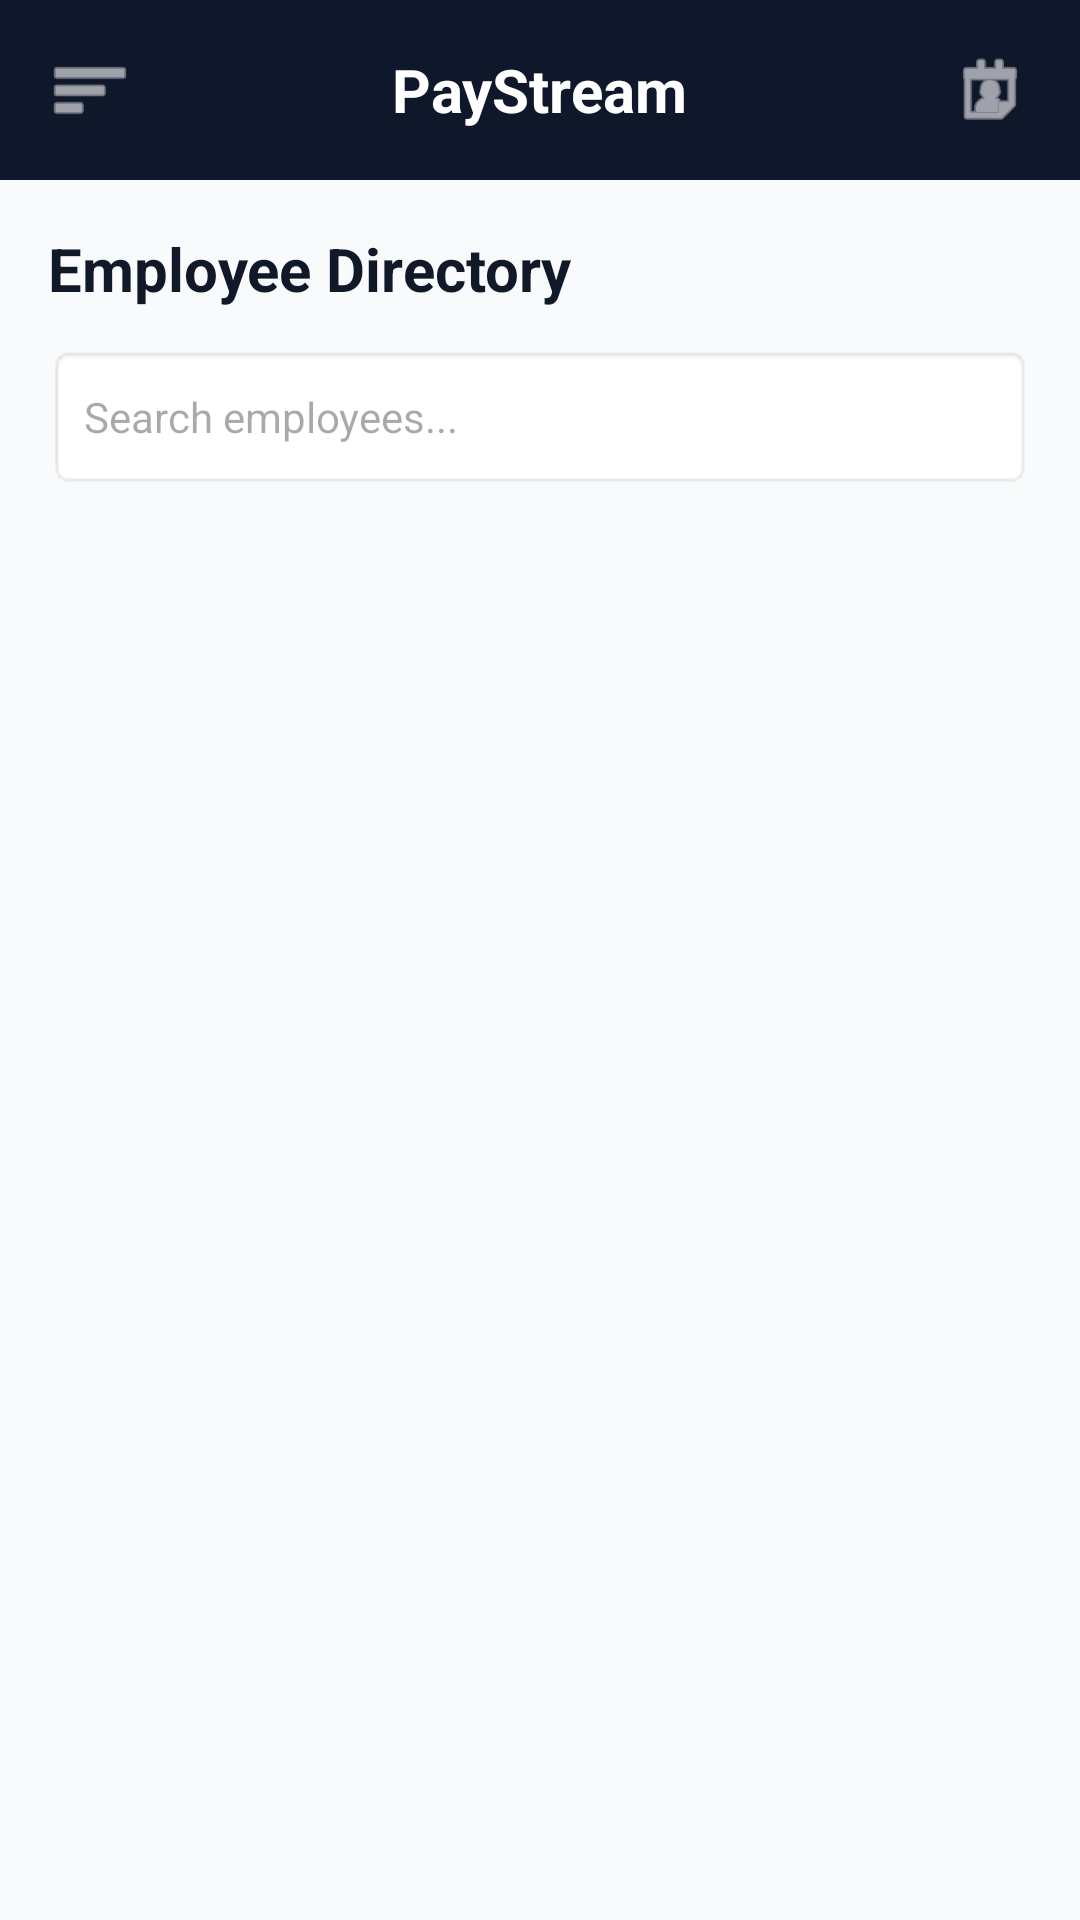

Icon bounding boxes for this 1080×1920 phone screenshot, format (x1=x1, y1=y1, x2=x2, y2=y2):
calendar: (x1=963, y1=58, x2=1017, y2=120)
sort by size: (x1=54, y1=67, x2=126, y2=114)
